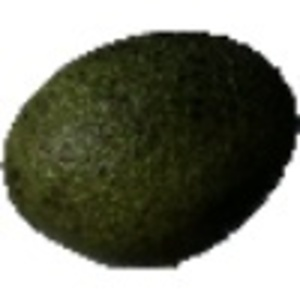abacate: (4, 23, 297, 272)
